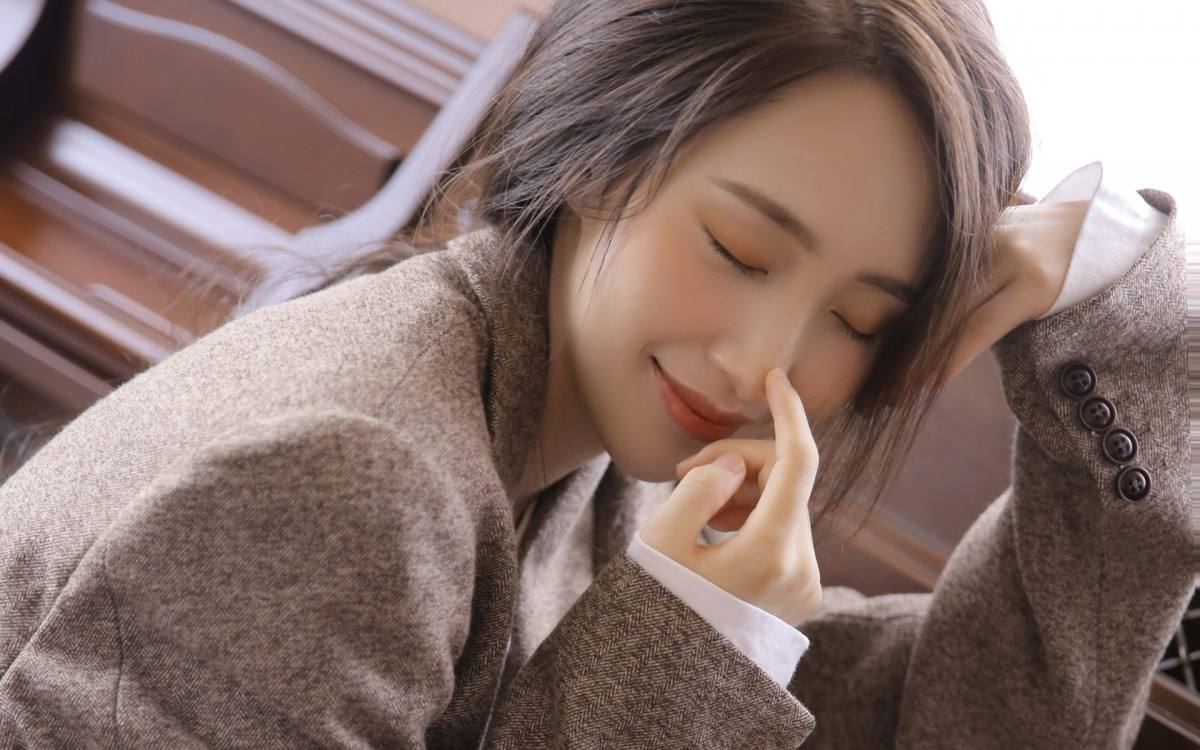person: (260, 14, 1005, 649)
